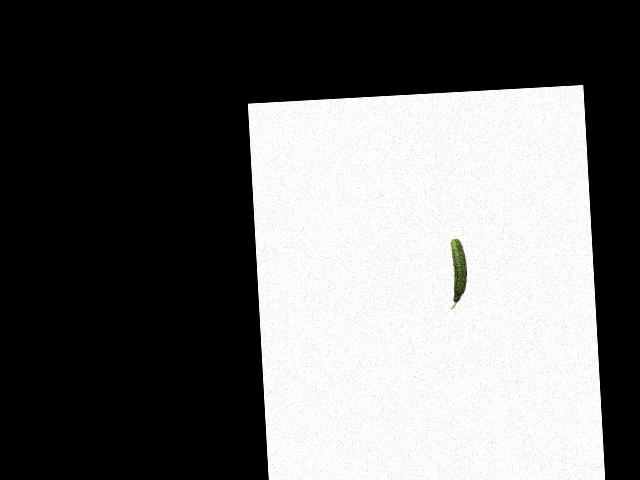cucumber: (447, 238, 468, 310)
